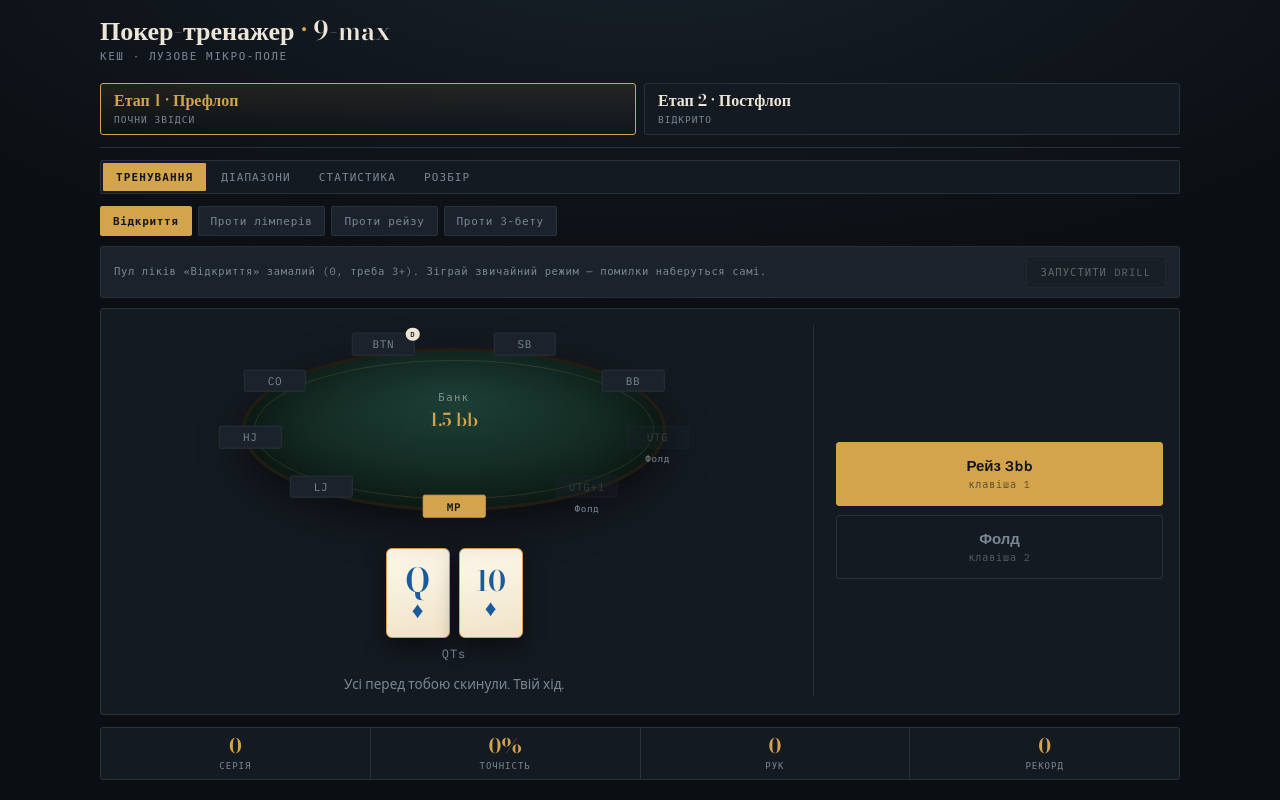
Test: App › відкритий Етап 2 показує власні вкладки
Click the button "Етап 2 · Постфлоп відкрито": (725, 100) [644,83,1180,135]
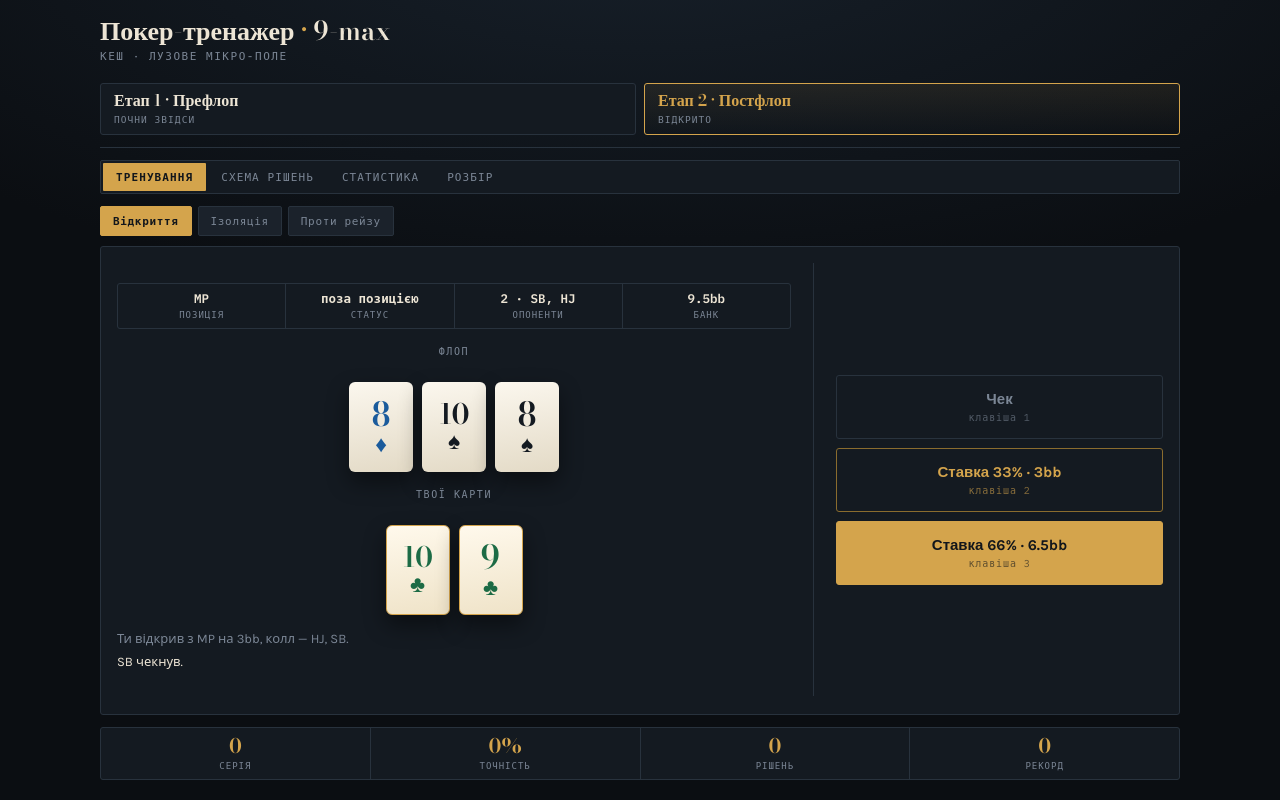
Check: the button "Тренування" is shown, box [103,163,206,191]
Check: the button "Схема рішень" is shown, box [208,163,327,191]
